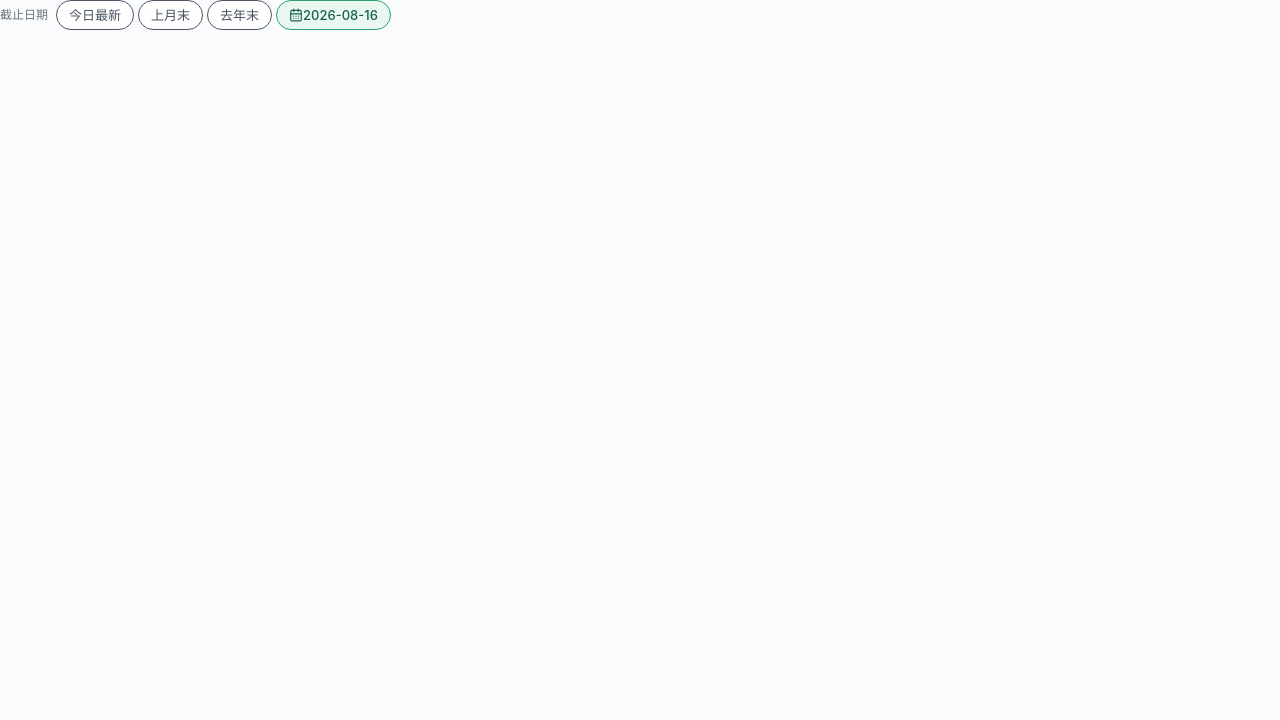
Scenario: AsOfToolbar › opens the custom date picker when 自定义日期 chip is clicked
Click the button named "自定义日期" at (334, 15), box [276,0,391,30]
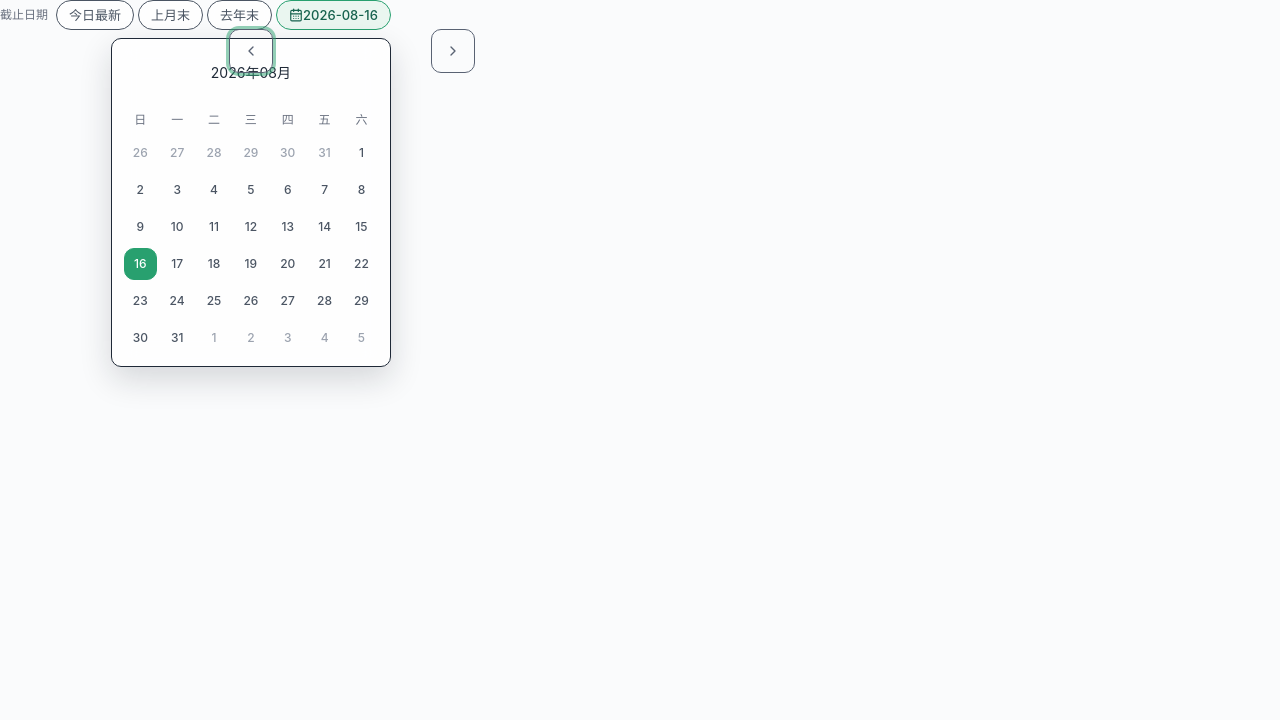
Result: the dialog named "选择日期" is shown at [111,38,391,367]
Result: the cell "16" is shown at [124,248,157,280]
